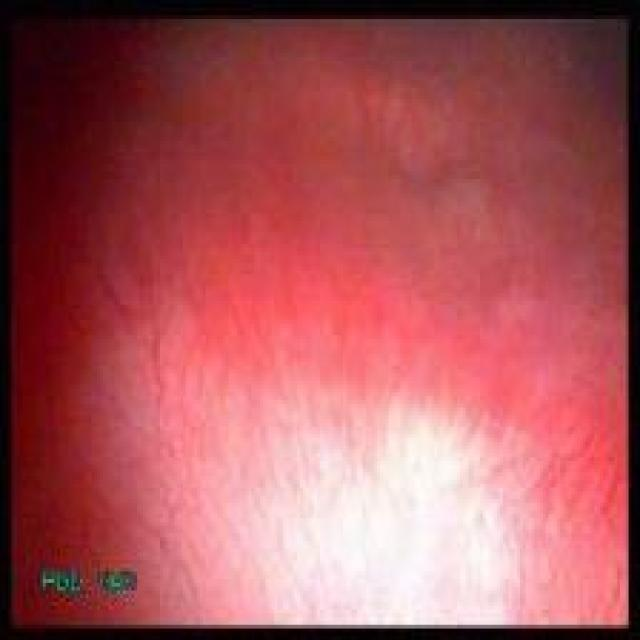blur: (12, 20, 625, 282)
color misalignment: (38, 564, 83, 596), (95, 564, 135, 593)
contrast: (12, 20, 127, 622), (127, 20, 292, 151), (485, 22, 625, 173)
saturation: (138, 284, 625, 624)
